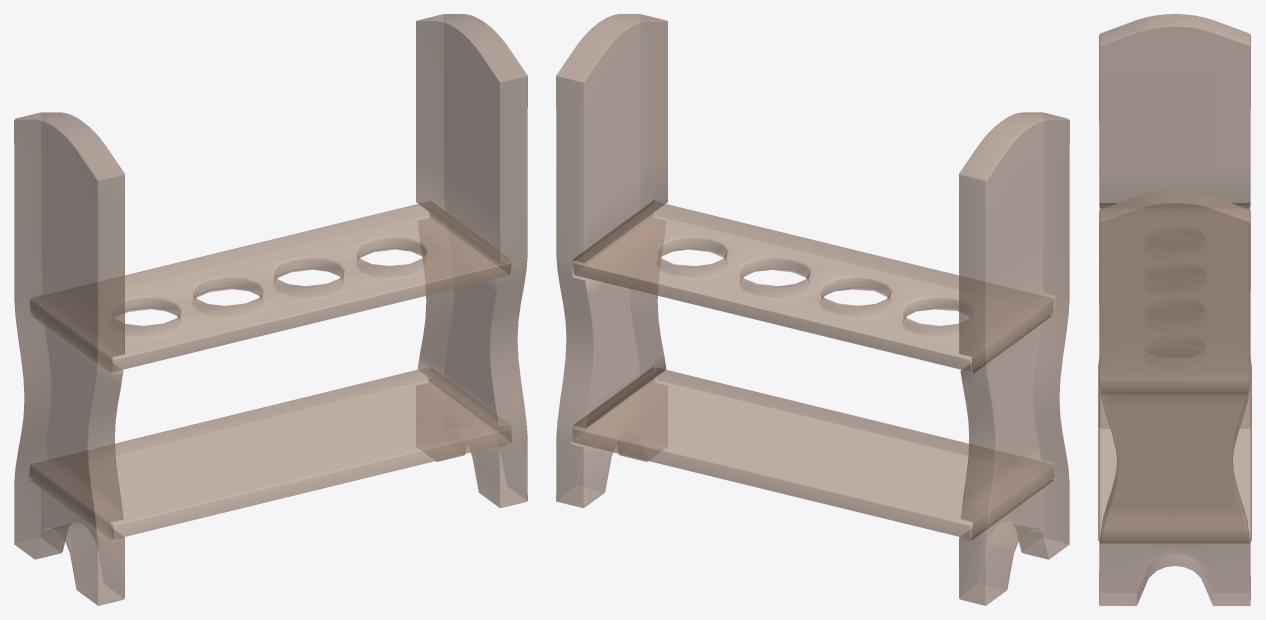
Rendered from SM_Potion_Support_01_Unity.fbx.
3 views of the same model, side by side, from view 1: azimuth 30°, elevation 25°; view 2: azimuth 150°, elevation 25°; view 3: azimuth 270°, elevation 25° (orthographic). The views are drawn at different scales.
Parts seen in each view (by area): view 1: SM_Potion_04_Support_shelvs_low; view 2: SM_Potion_04_Support_shelvs_low; view 3: SM_Potion_04_Support_shelvs_low.
Boxes of the visible parts, left/top/right/bottom form: SM_Potion_04_Support_shelvs_low: left=14, top=14, right=527, bottom=605; SM_Potion_04_Support_shelvs_low: left=556, top=14, right=1069, bottom=605; SM_Potion_04_Support_shelvs_low: left=1098, top=14, right=1251, bottom=605.
Size of the model in its own units: 37.18 by 36.99 by 12.77.
